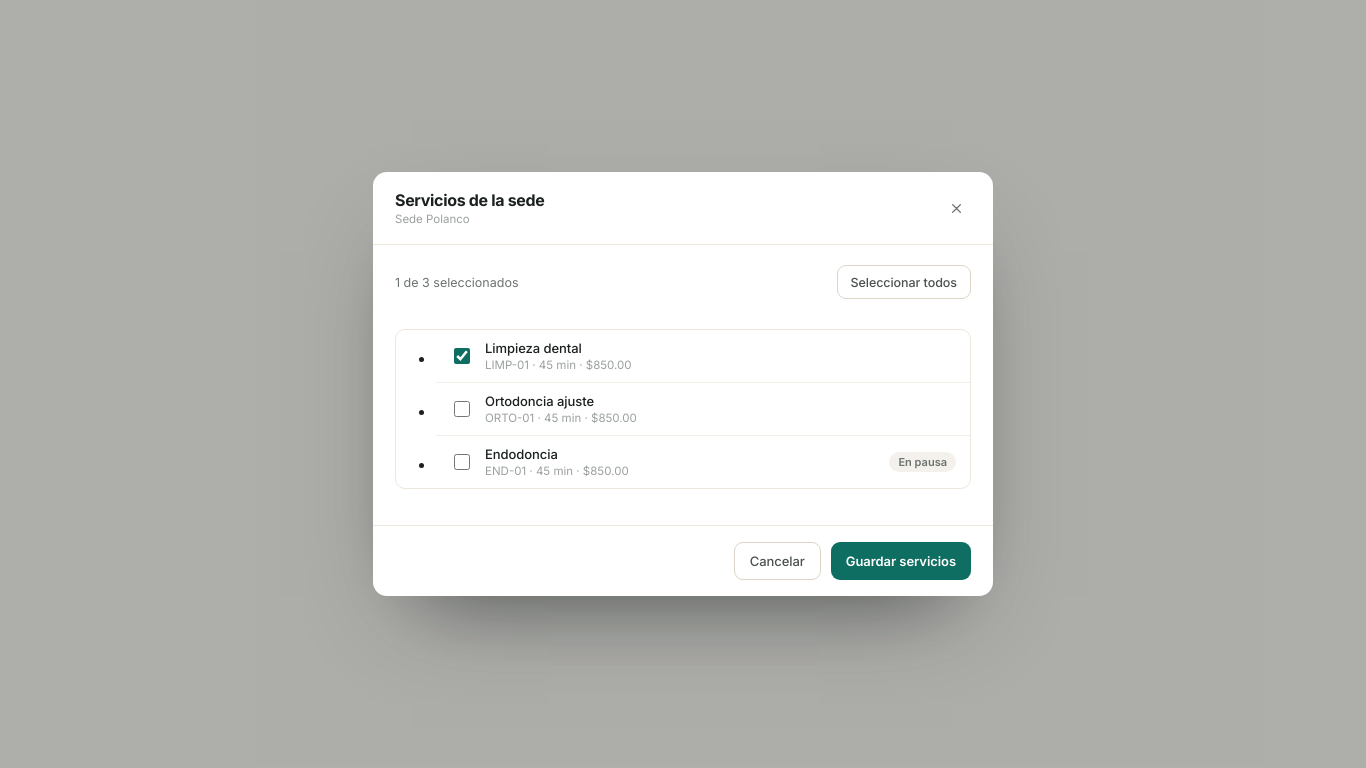
Test case: LocationServicesModal saving › renames the action and warns when the selection is empty
Click the checkbox labelled "Limpieza dental LIMP-01 · 45 min · $850.00": (462, 356) x1=454 y1=348 x2=470 y2=364
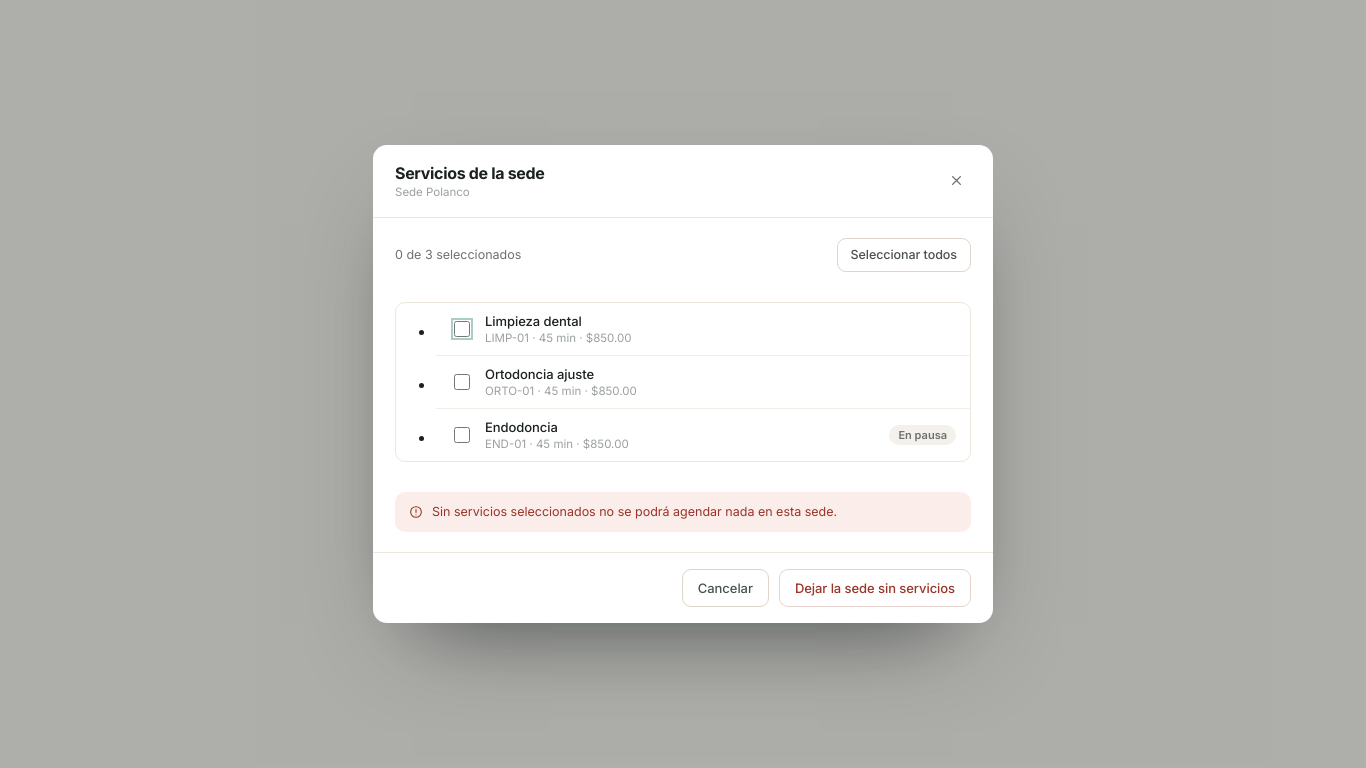
Now the button "Dejar la sede sin servicios" is shown, box x1=779 y1=569 x2=971 y2=607
Now the text "no se podrá agendar" is shown, box x1=432 y1=504 x2=837 y2=519
